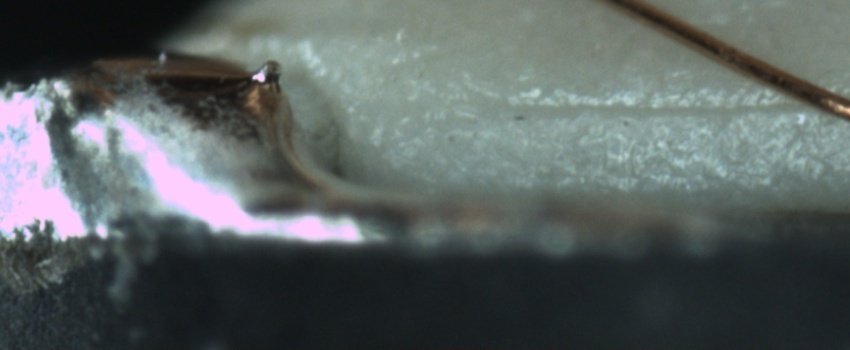DL: (504, 77, 849, 141)
